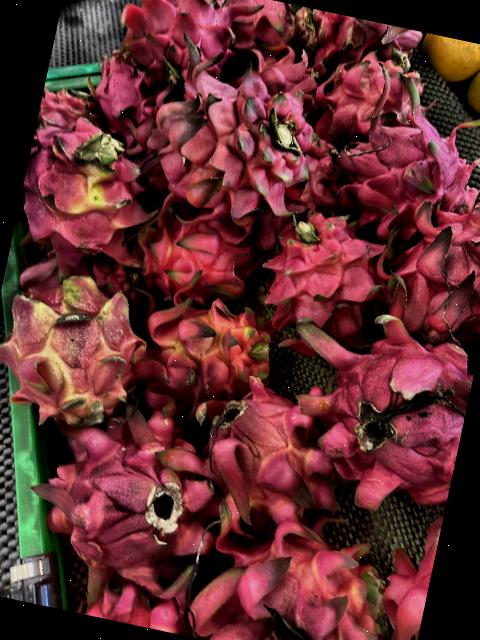buah-naga-belum-matang: (8, 102, 168, 282), (0, 262, 154, 434)
buah-naga-matang: (276, 303, 480, 511), (38, 402, 227, 600), (133, 48, 329, 222), (177, 497, 400, 640), (190, 375, 348, 531), (131, 278, 284, 416), (248, 204, 384, 352), (128, 196, 269, 308), (382, 187, 480, 345), (333, 106, 462, 226), (310, 39, 426, 150), (124, 0, 239, 88), (371, 508, 443, 640), (77, 46, 166, 138), (230, 43, 330, 119), (75, 571, 193, 635), (214, 0, 303, 53)
